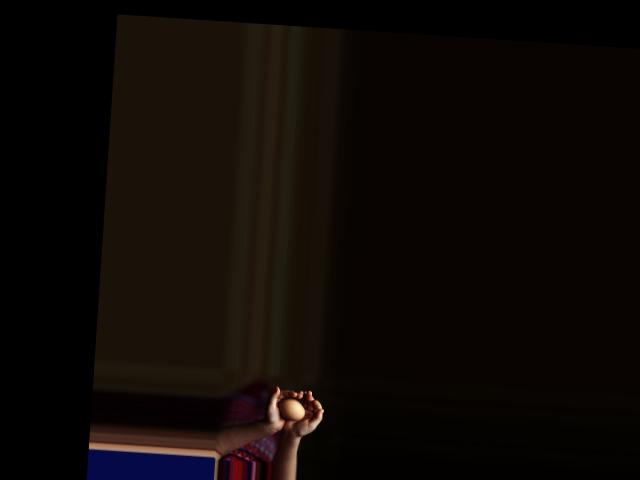egg: (277, 397, 305, 420)
